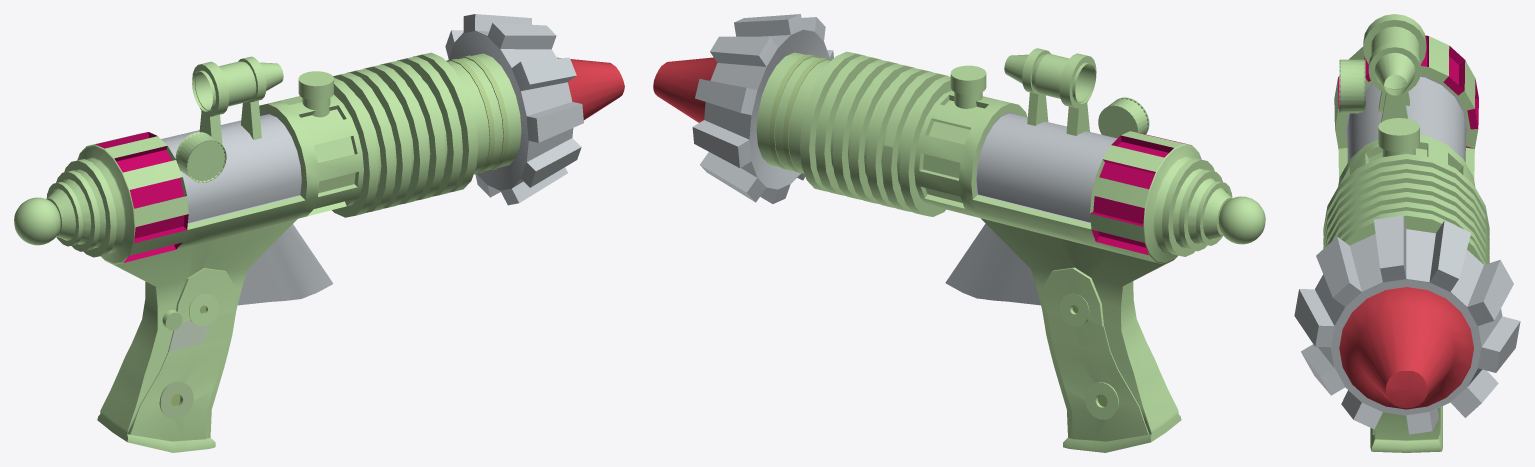
The model's file is laser_gun.fbx.
3 views of the same model, side by side, from view 1: azimuth 30°, elevation 25°; view 2: azimuth 150°, elevation 25°; view 3: azimuth 270°, elevation 25° (orthographic). The views are drawn at different scales.
Parts seen in each view (by area): view 1: polySurface3, pPipe10, pCube1, pCylinder2; view 2: polySurface3, pPipe10, pCube1, pCylinder2; view 3: polySurface3, pPipe10, pCylinder2.
Part boxes in pixels (bbox=[...]): polySurface3: bbox=[14, 52, 624, 452]; pPipe10: bbox=[445, 14, 583, 205]; pCube1: bbox=[238, 224, 332, 305]; pCylinder2: bbox=[175, 132, 226, 182]; polySurface3: bbox=[653, 48, 1265, 452]; pPipe10: bbox=[692, 14, 833, 203]; pCube1: bbox=[945, 223, 1040, 305]; pCylinder2: bbox=[1098, 97, 1149, 138]; polySurface3: bbox=[1323, 14, 1489, 452]; pPipe10: bbox=[1294, 215, 1520, 434]; pCylinder2: bbox=[1339, 59, 1365, 113].
Size of the model in its own units: 27.86 by 16.71 by 7.78.
